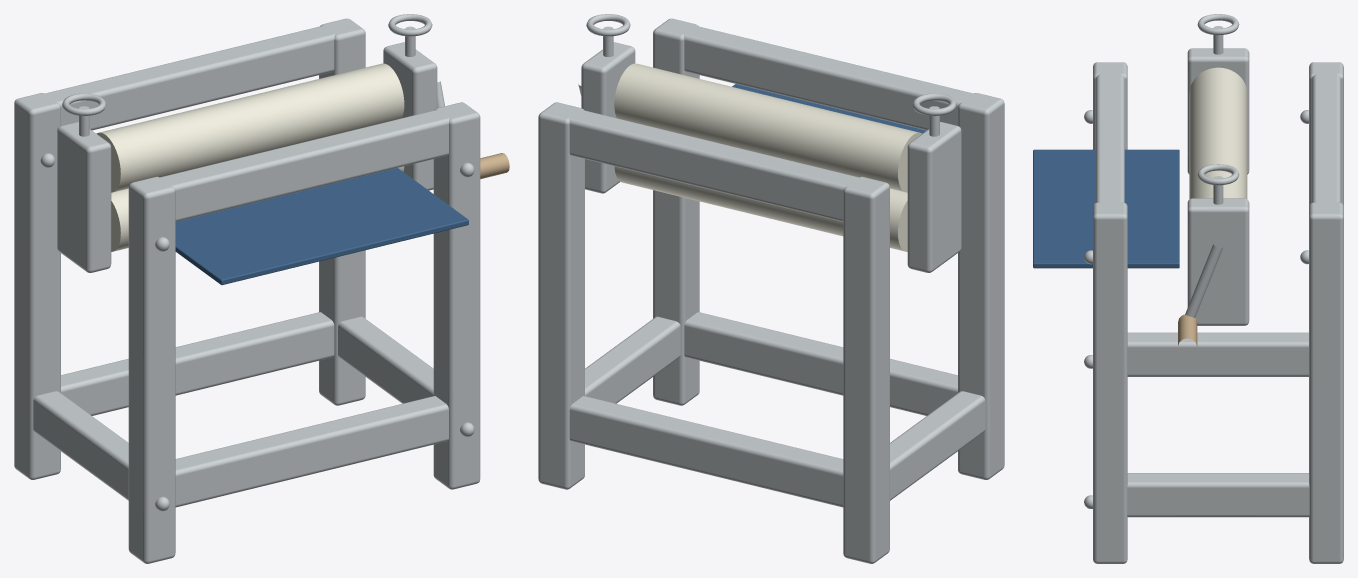
File: textile-weaving-and-dye-workshop-wringer-3128c3eb__29568.glb
3 views of the same model, side by side, from view 1: azimuth 30°, elevation 25°; view 2: azimuth 150°, elevation 25°; view 3: azimuth 270°, elevation 25° (orthographic). The views are drawn at different scales.
Parts seen in each view (by area): view 1: wringer; view 2: wringer; view 3: wringer.
Part boxes in pixels (x1,y1,x2,y2): wringer: (14, 14, 509, 563); wringer: (538, 14, 1004, 563); wringer: (1033, 14, 1343, 563).
Size of the model in its own units: 1.19 by 1.12 by 0.805.
